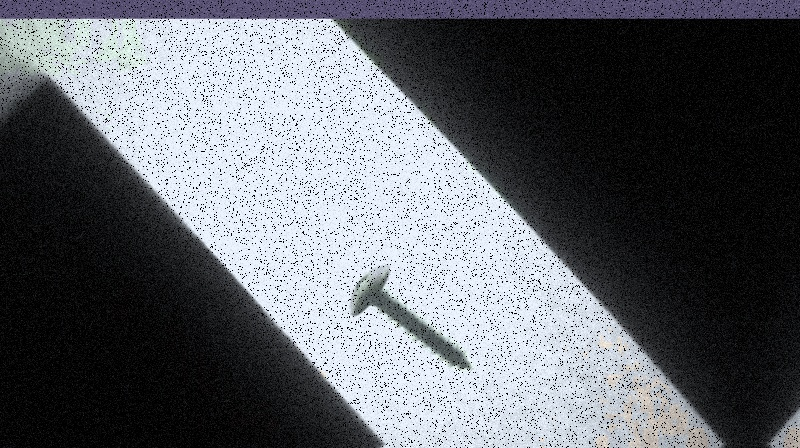S003: (345, 259, 477, 371)
